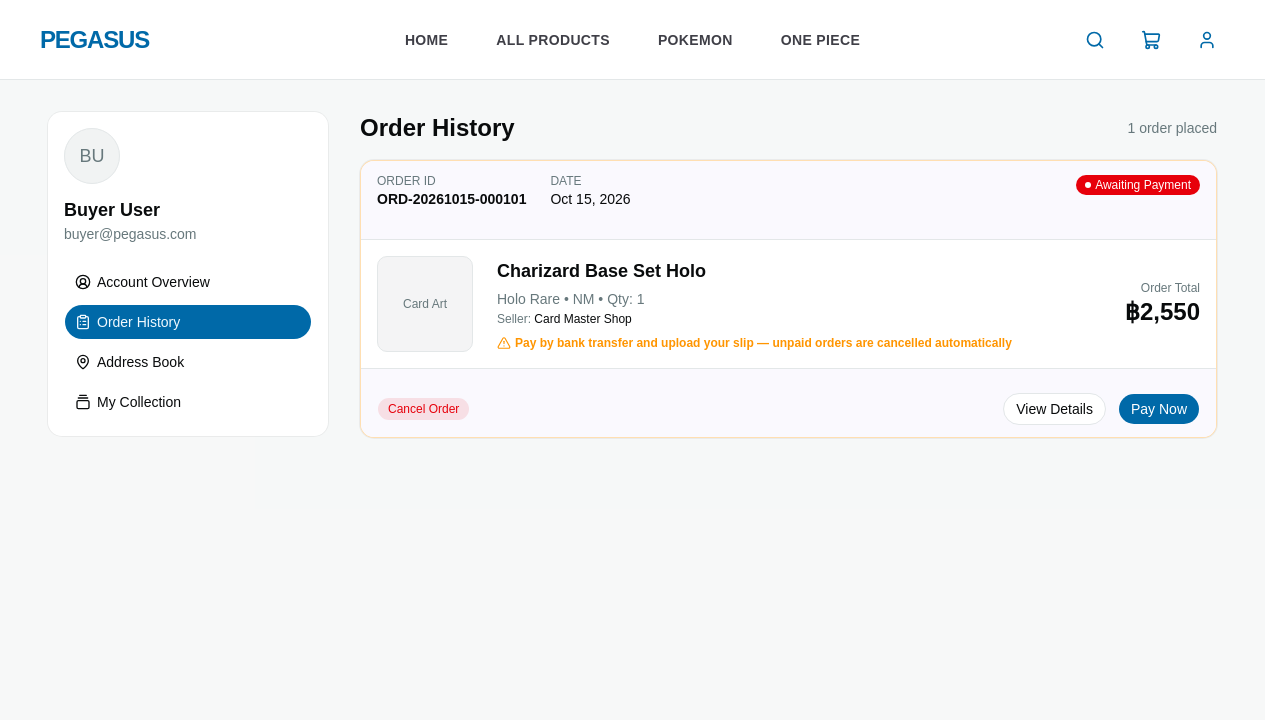
Core Account Orders Flow › displays orders list and opens order details modal
The width and height of the screenshot is (1280, 720).
Expected: the heading "Order History" is shown, top-left (360, 112), bottom-right (515, 144)
Expected: the text "ORD-20261015-000101" is shown, top-left (377, 189), bottom-right (526, 209)
Click View Details to open modal
Click the button "View Details" at (1055, 409), box top-left (1003, 393), bottom-right (1106, 425)
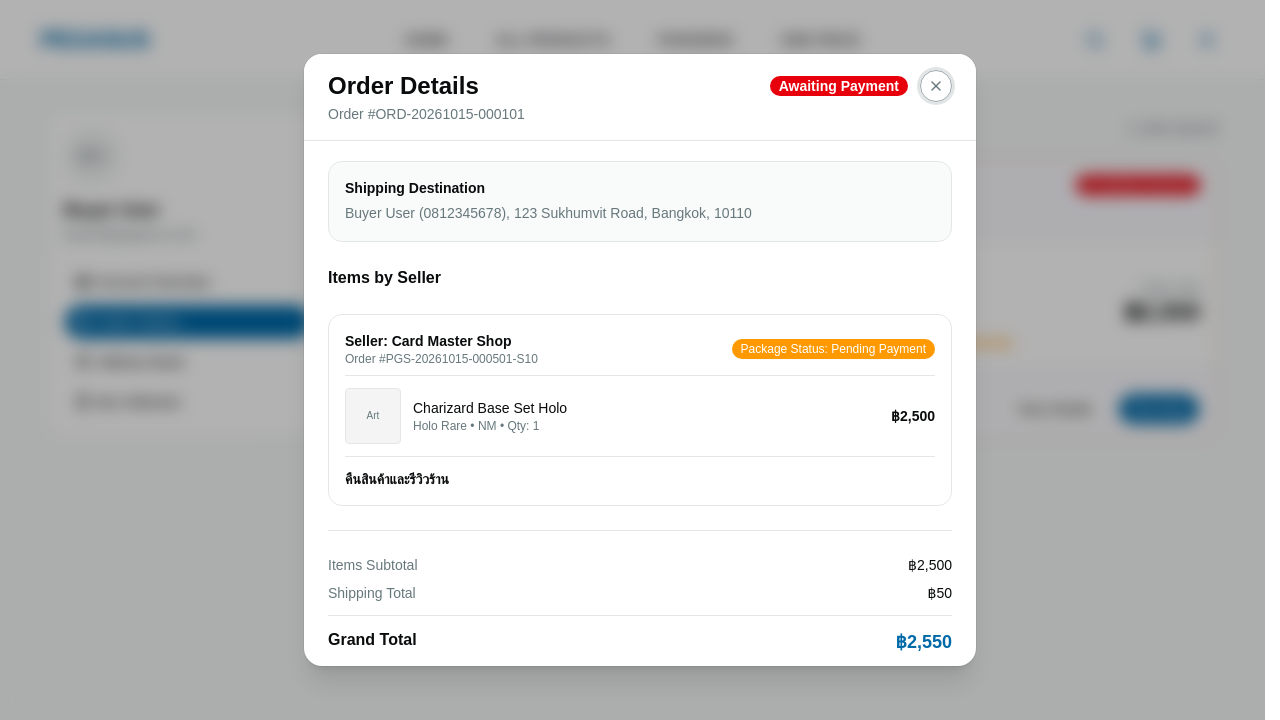
Expected: the heading "Order Details" is shown, top-left (328, 72), bottom-right (479, 99)
Expected: the text "123 Sukhumvit Road" is shown, top-left (345, 205), bottom-right (752, 221)
Close details modal
Click the button named "Close" at (936, 86), box top-left (920, 70), bottom-right (952, 102)
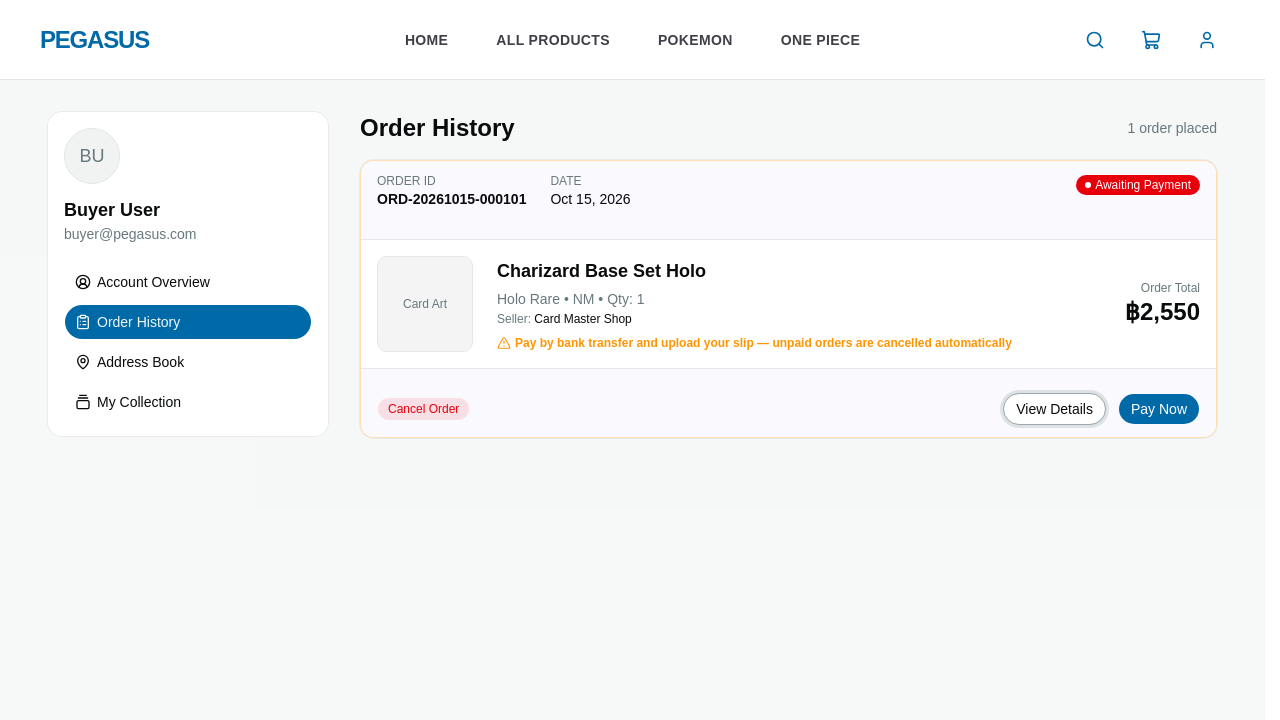
Expected: the heading "Order Details" is gone
